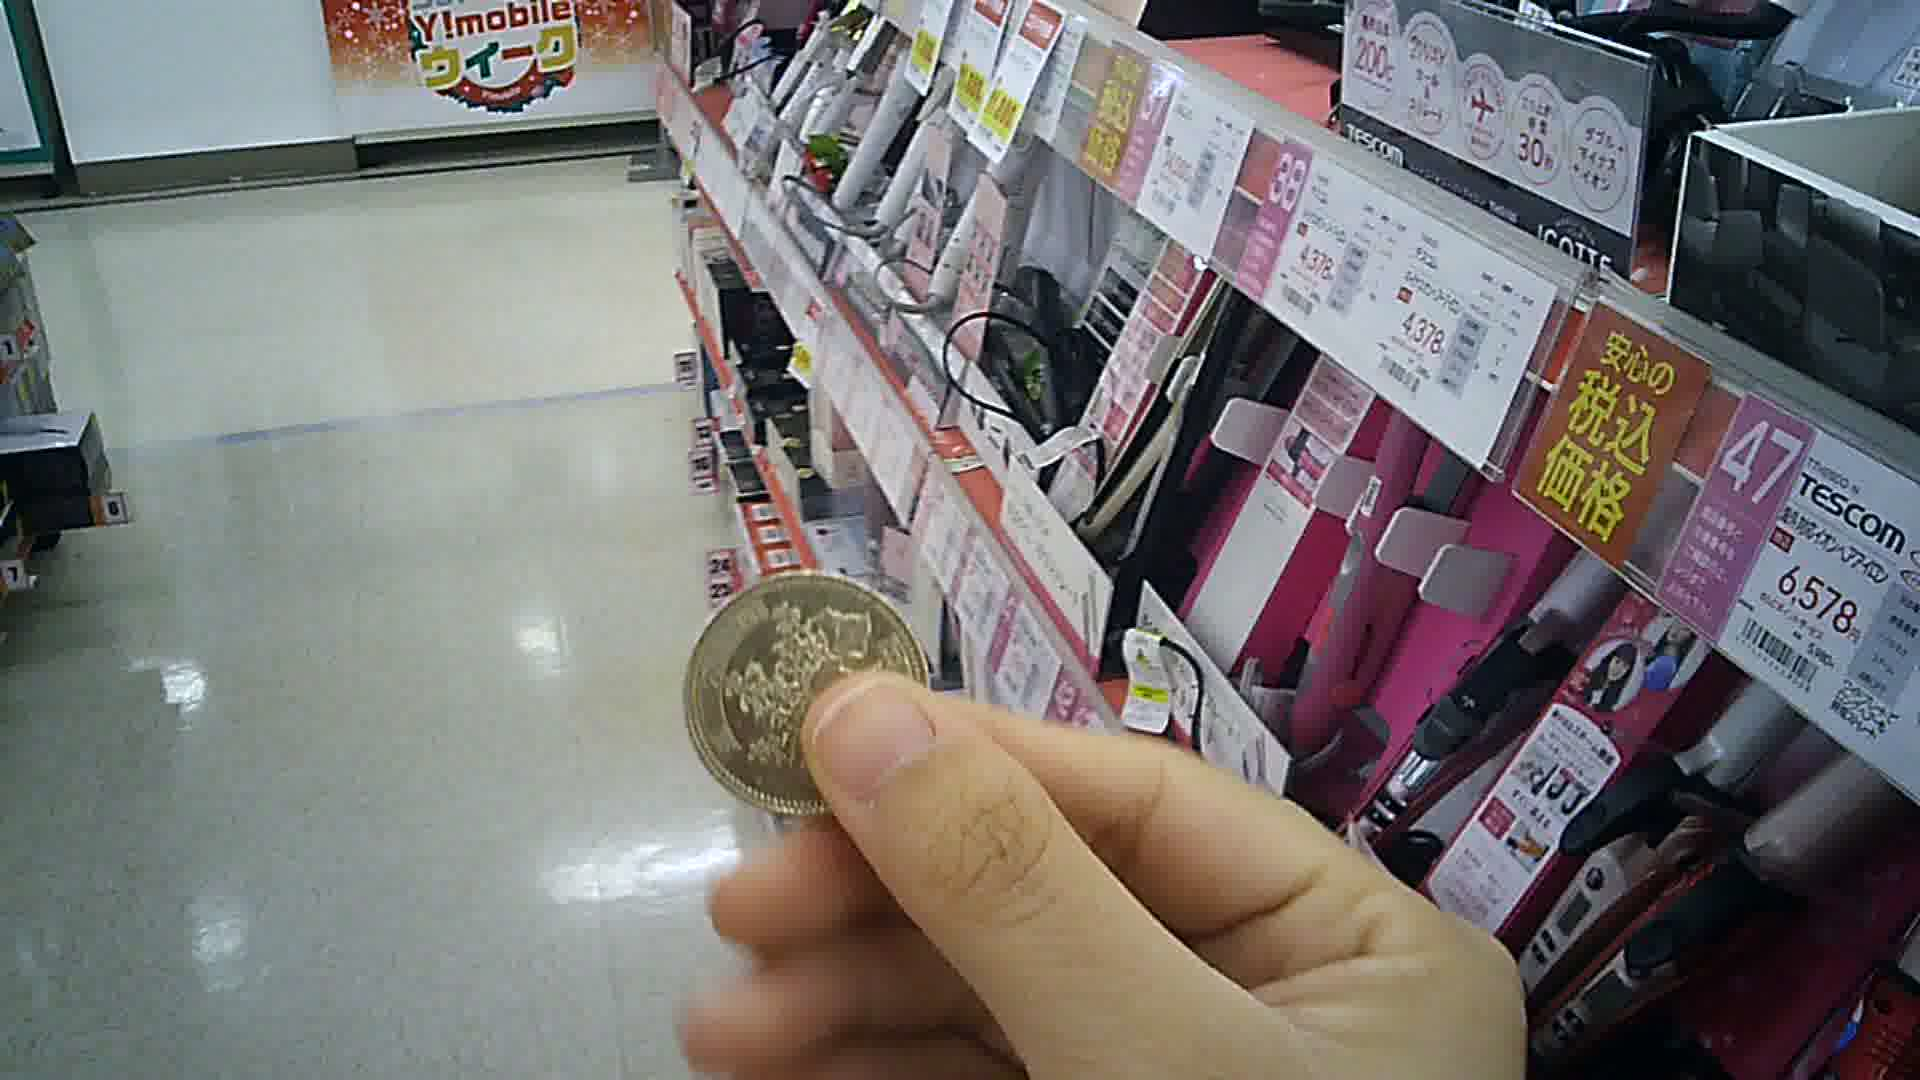500 Yen: (683, 574, 943, 818)
